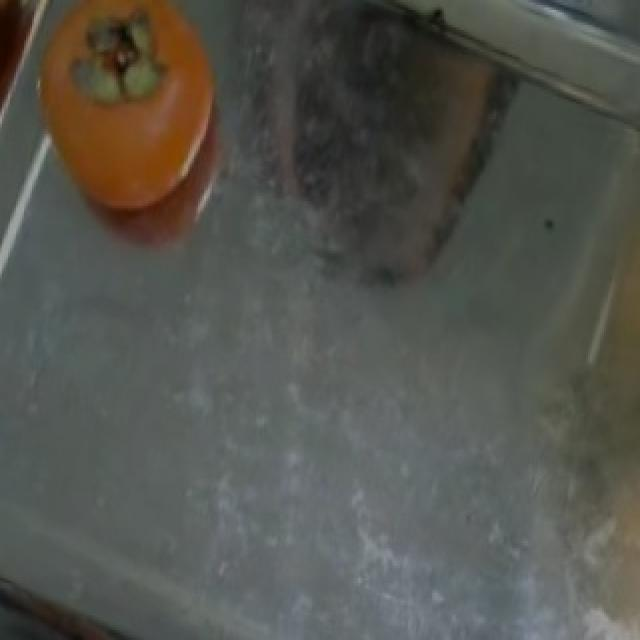Fruit: (4, 0, 240, 236)
